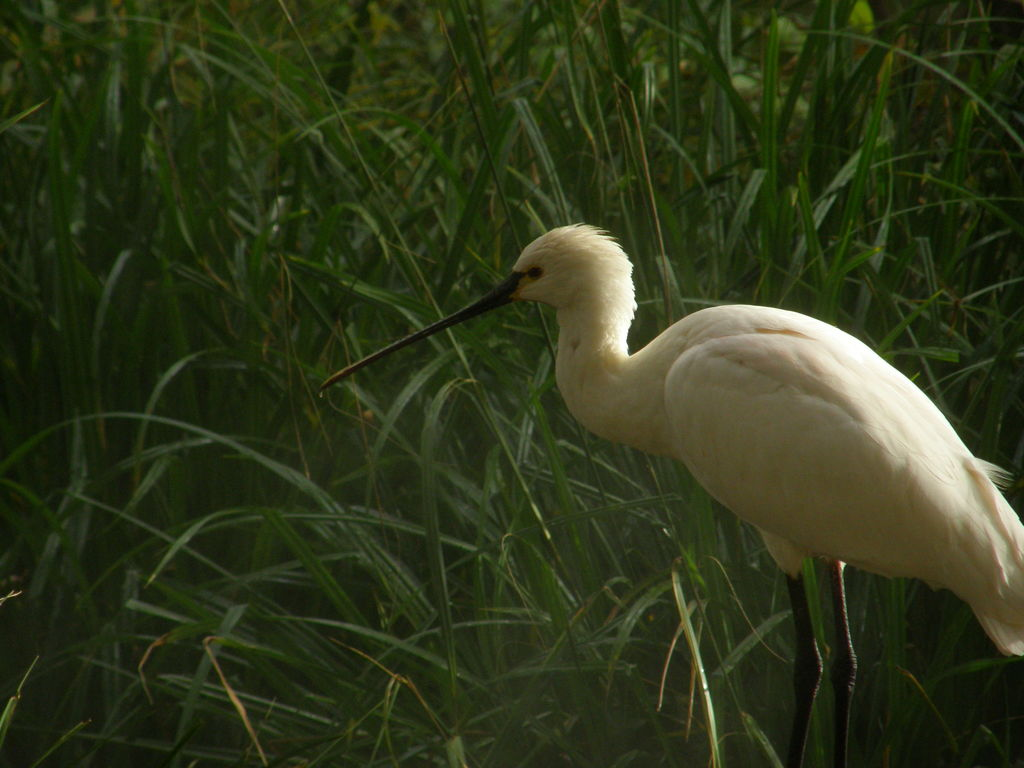Bird: (315, 221, 1022, 768)
